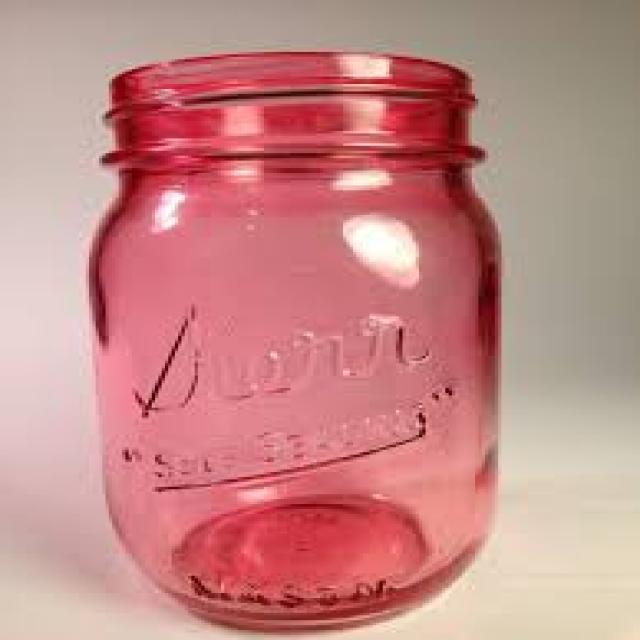glass: (86, 50, 505, 630)
